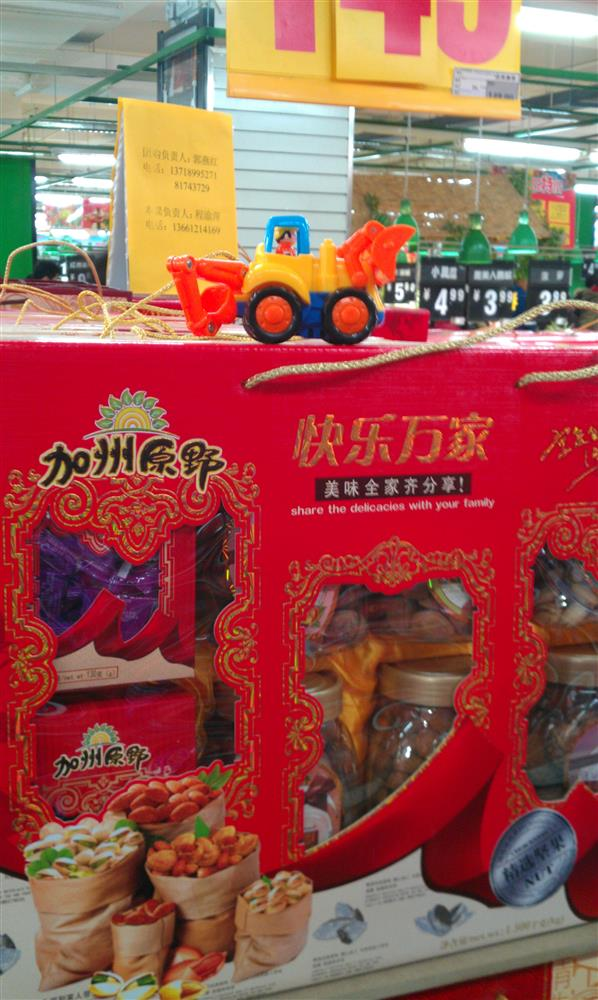navvy: (163, 205, 424, 353)
